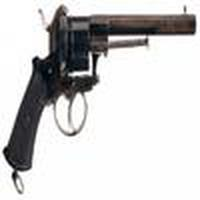gun: (4, 15, 196, 179)
